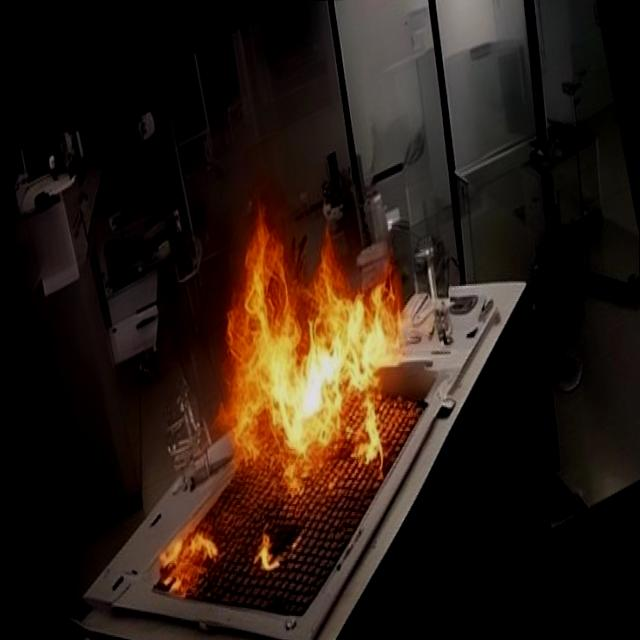fire: (116, 163, 438, 594)
